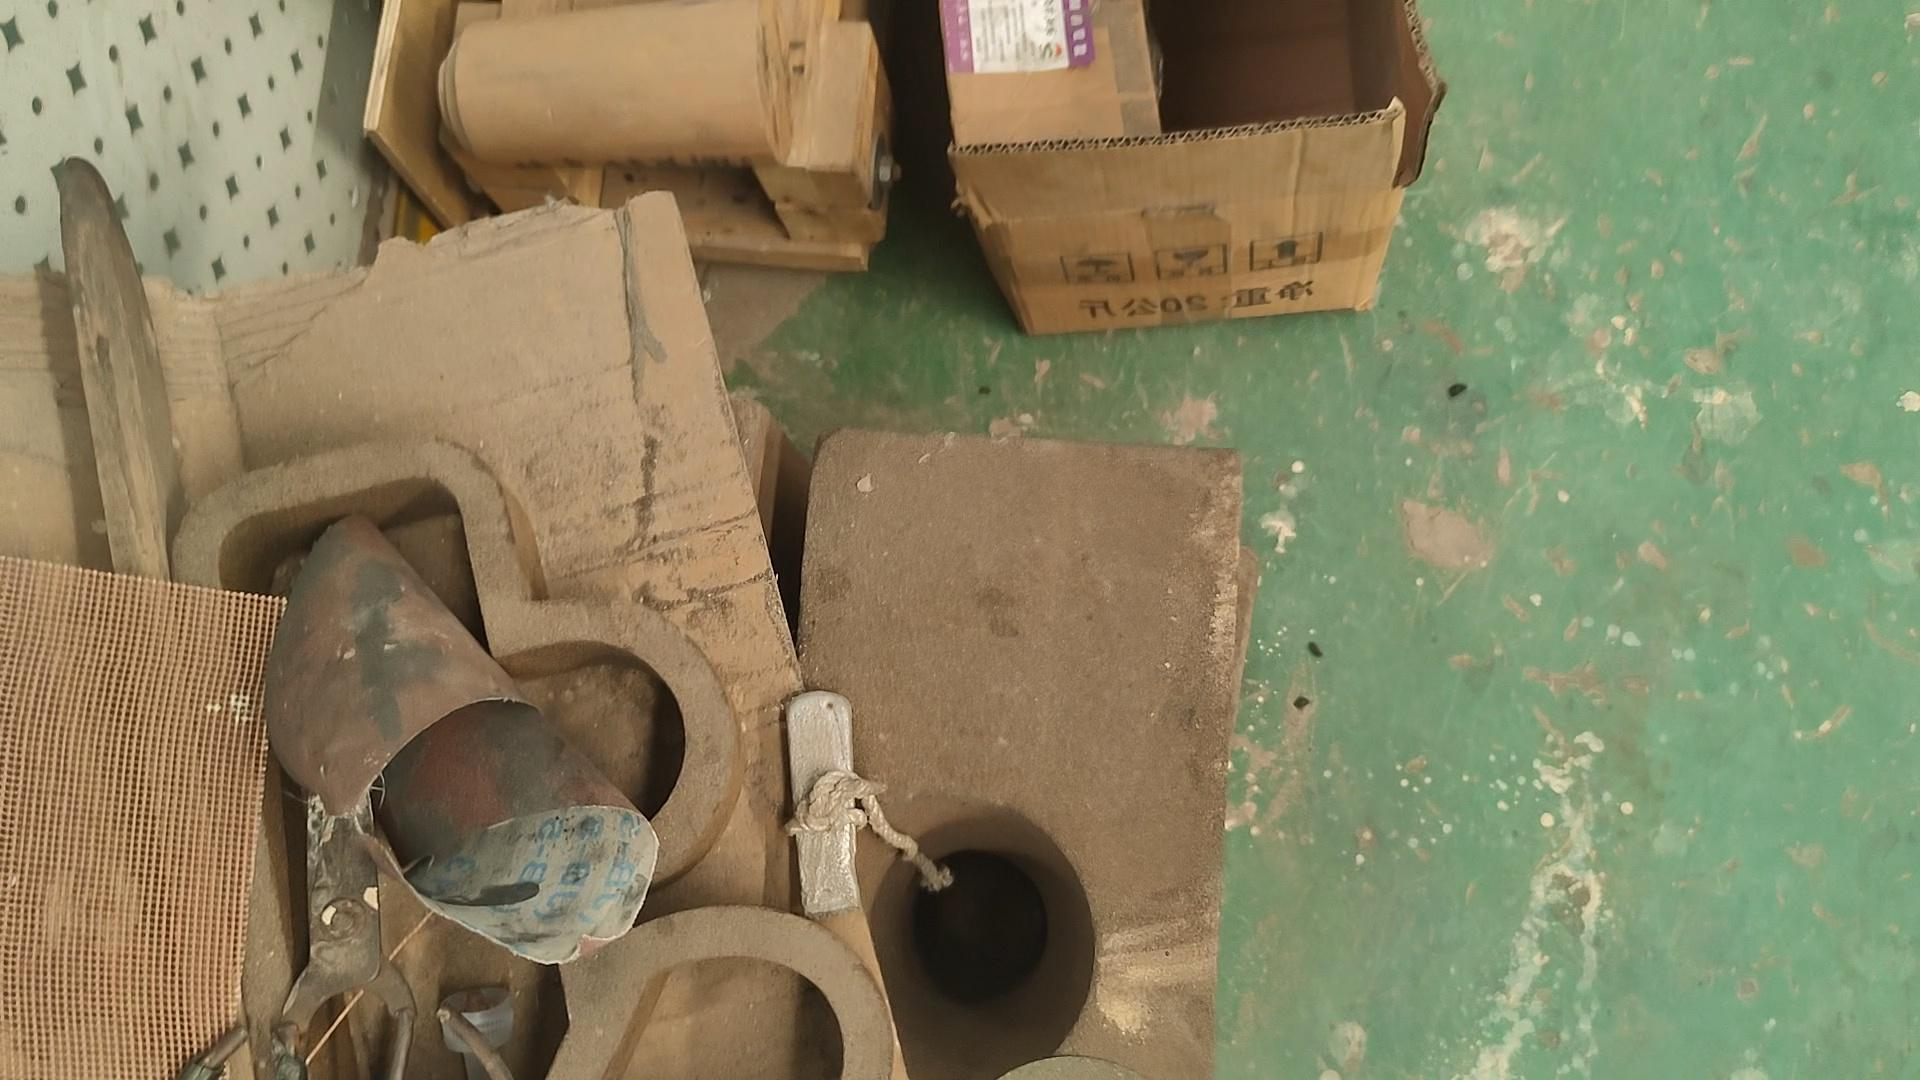pouring hole: (812, 794, 1095, 1080)
